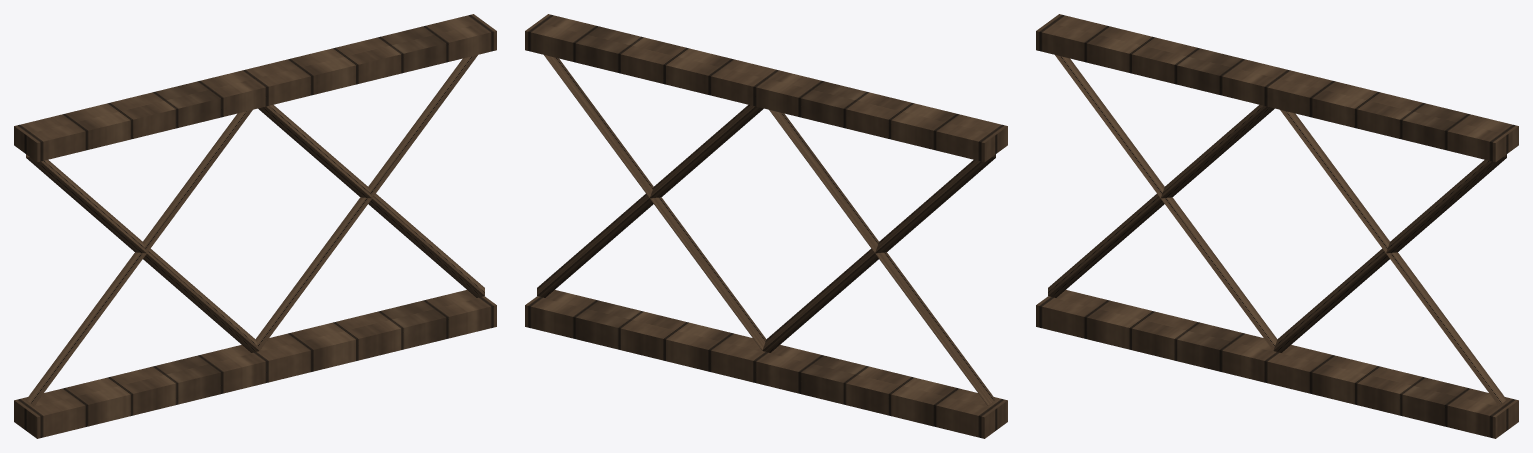
The model's file is Balcony_Cross_Straight_LOD1.gltf.
The picture shows the model from 3 angles, left to right: view 1: azimuth 30°, elevation 25°; view 2: azimuth 150°, elevation 25°; view 3: azimuth 330°, elevation 25°; orthographic projection.
Parts seen in each view (by area): view 1: Balcony_Cross_Straight_LOD1; view 2: Balcony_Cross_Straight_LOD1; view 3: Balcony_Cross_Straight_LOD1.
Part boxes in pixels (x1,y1,x2,y2): Balcony_Cross_Straight_LOD1: (14, 14, 496, 438); Balcony_Cross_Straight_LOD1: (525, 14, 1007, 438); Balcony_Cross_Straight_LOD1: (1036, 14, 1518, 438).
Size of the model in its own units: 2 by 1.23 by 0.175.
1 material, 1 textured.
